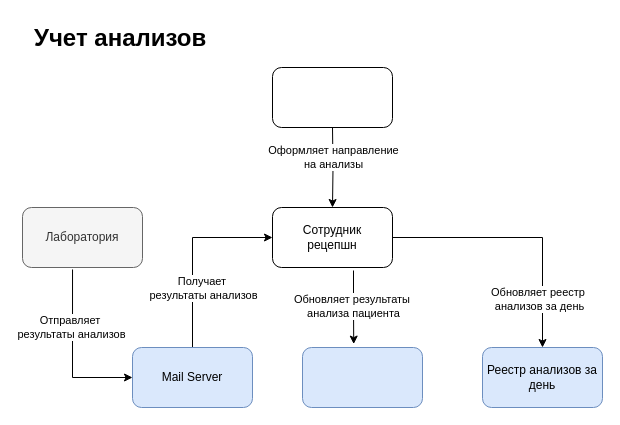
The diagram is 620 pixels wide and 425 high, and some of its shapes have lost their labels. The box of each missing label's shape, as (x1, y1, x2, y2) in pixels:
Специалист: (272, 66, 392, 128)
Файлы пациента: (302, 346, 422, 408)
